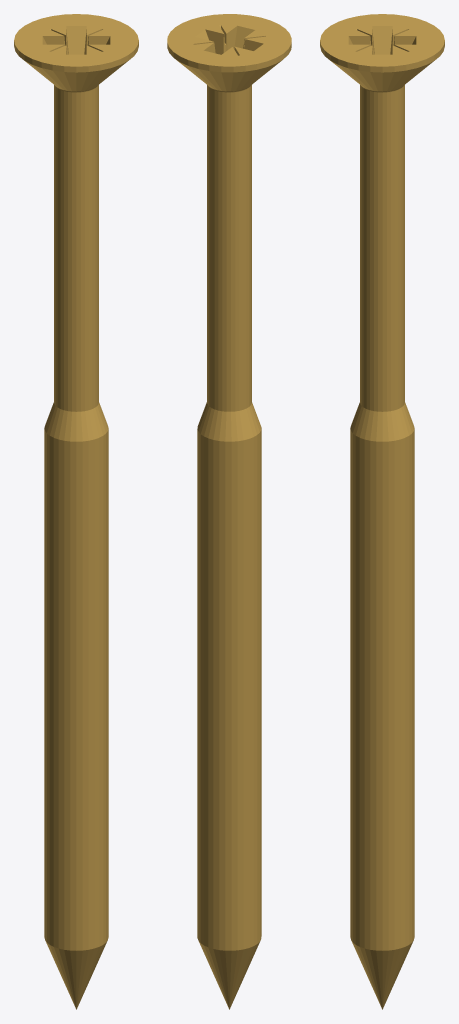
Rendered from model_display.glb.
The picture shows the model from 3 angles, left to right: view 1: azimuth 90°, elevation 25°; view 2: azimuth 150°, elevation 25°; view 3: azimuth 270°, elevation 25°; orthographic projection.
Visible parts, largest first — view 1: geometry_0; view 2: geometry_0; view 3: geometry_0.
Boxes of the visible parts, x1,y1,x2,y2 form: geometry_0: [14, 14, 138, 1009]; geometry_0: [167, 14, 291, 1009]; geometry_0: [320, 14, 444, 1009].
Bounding box in the file's own units: 0.00875 × 0.075 × 0.00875.
